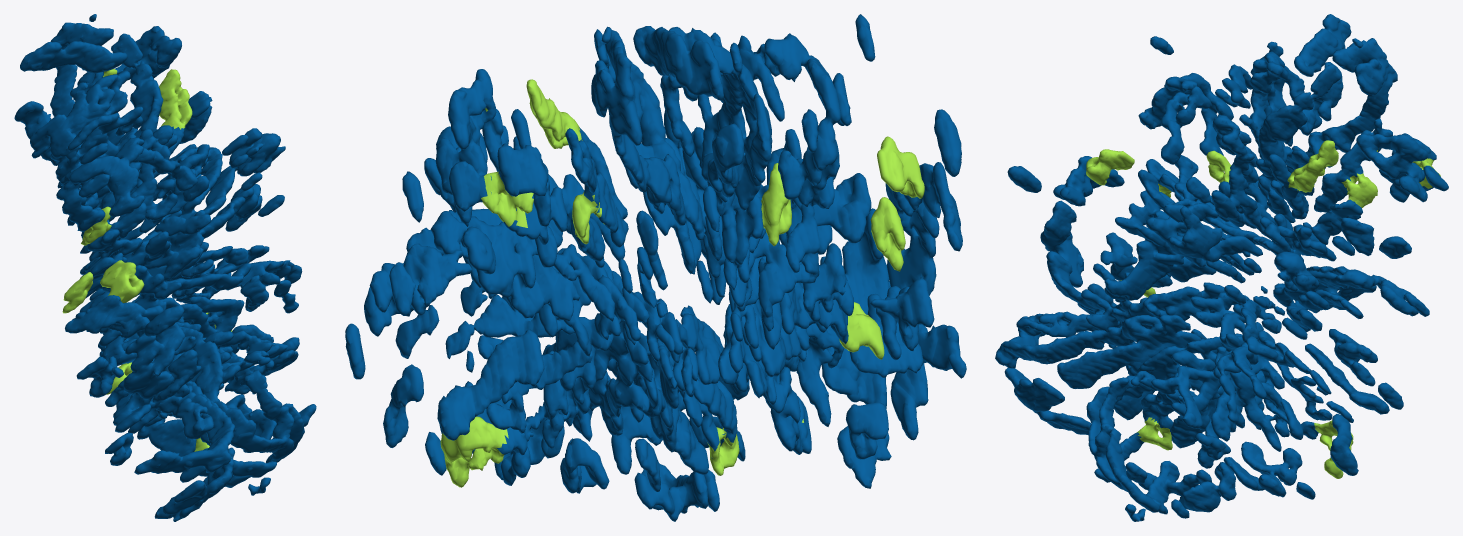
File: 30_24_live_donut_highlighted.glb
3 views of the same model, side by side, from view 1: azimuth 30°, elevation 25°; view 2: azimuth 150°, elevation 25°; view 3: azimuth 270°, elevation 25° (orthographic). The views are drawn at different scales.
Visible parts, largest first — view 1: 24_30_cis; view 2: 24_30_cis; view 3: 24_30_cis.
Boxes of the visible parts, <box> form: 24_30_cis: <box>14,14,316,521</box>; 24_30_cis: <box>345,14,966,521</box>; 24_30_cis: <box>995,14,1448,521</box>.
Size of the model in its own units: 18.63 by 23.79 by 21.61.
